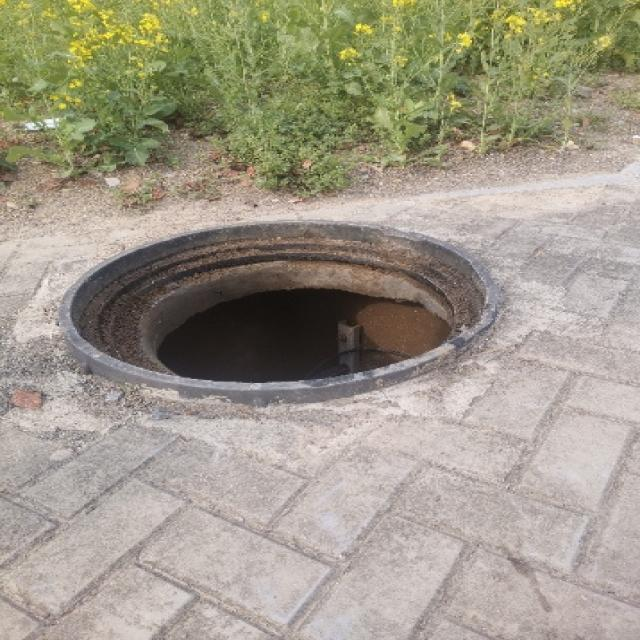Uncovered: (45, 219, 513, 412)
